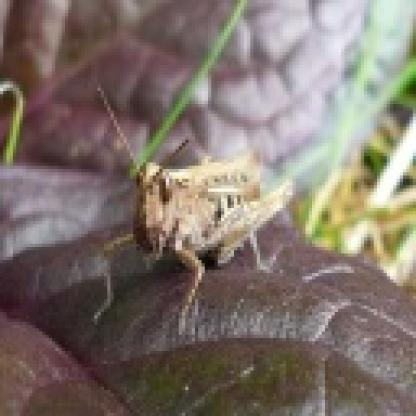grasshopper: (90, 131, 312, 334)
